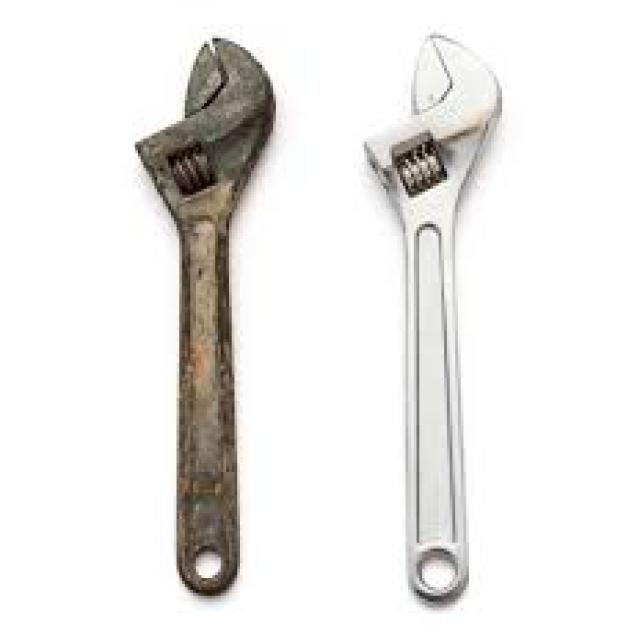wrench: (347, 16, 535, 625), (118, 25, 307, 610)
